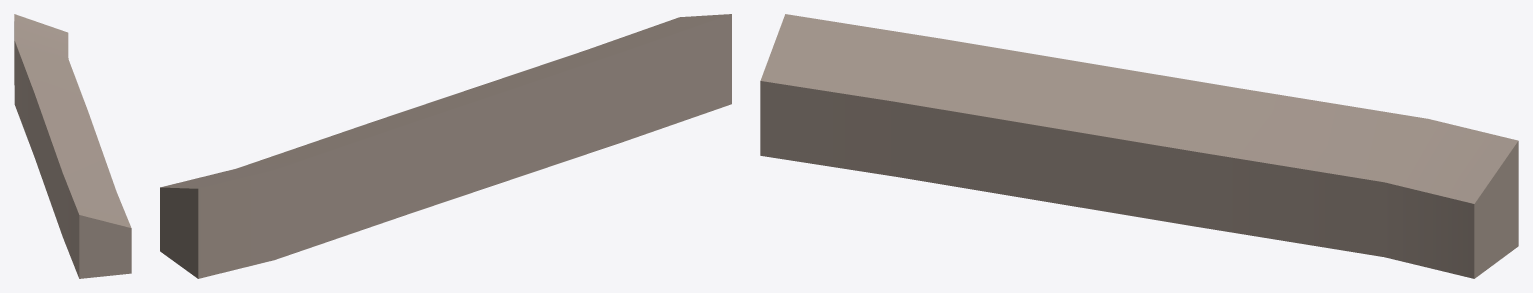
Rendered from Bulding_Wall_3.fbx.
The picture shows the model from 3 angles, left to right: view 1: azimuth 30°, elevation 25°; view 2: azimuth 150°, elevation 25°; view 3: azimuth 270°, elevation 25°; orthographic projection. The views are drawn at different scales.
Parts seen in each view (by area): view 1: pCube30; view 2: pCube30; view 3: pCube30.
Boxes of the visible parts, x1,y1,x2,y2 form: pCube30: (14, 14, 131, 278); pCube30: (160, 14, 731, 278); pCube30: (760, 14, 1518, 278).
Bounding box in the file's own units: 16.56 × 5.13 × 33.32.
